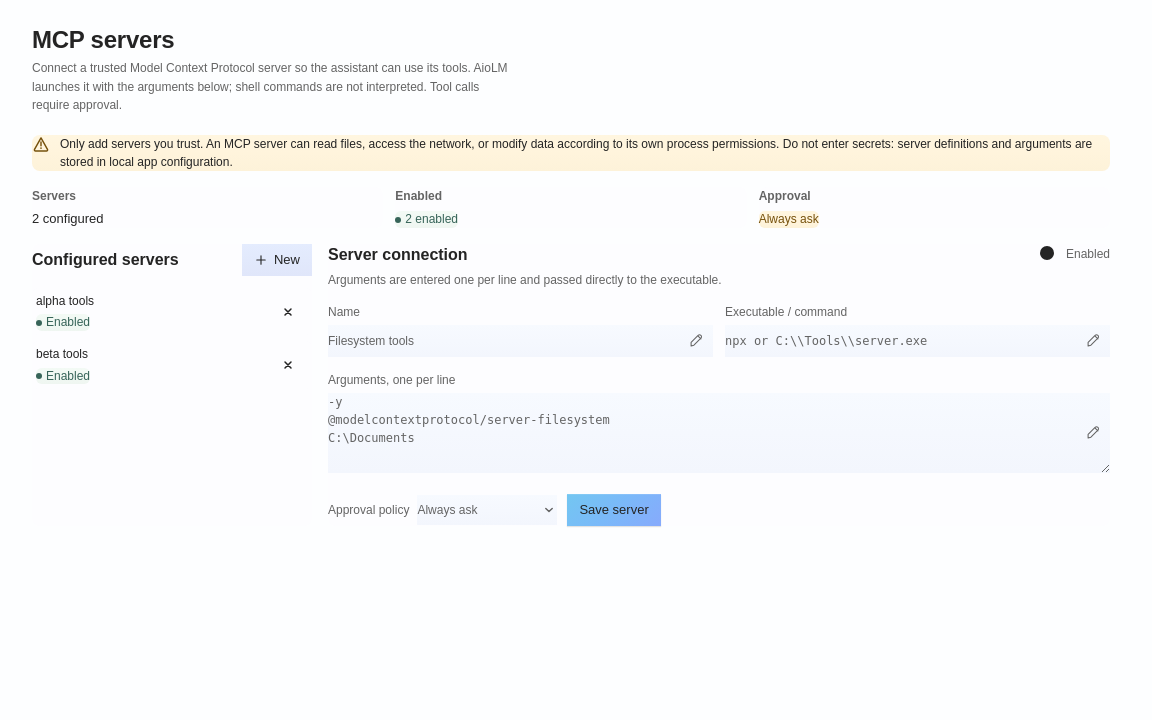
Test: MCP discovery selection ownership › does not replace current metadata or feedback with a previous server failure
Expected: the text "alpha tools" is shown, x1=36 y1=292 x2=94 y2=310
Click the button "alpha tools Enabled" at point(152, 312), box x1=36 y1=292 x2=268 y2=332
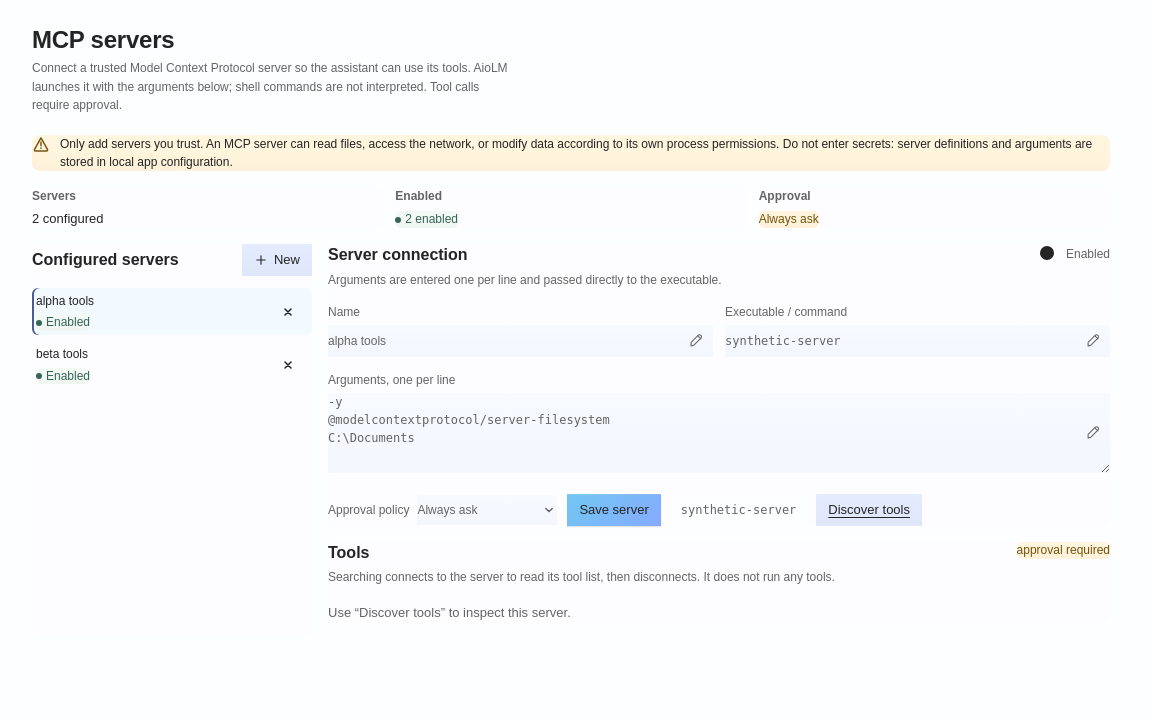
Click the button named "Discover tools" at point(869, 510), box x1=816 y1=494 x2=922 y2=526
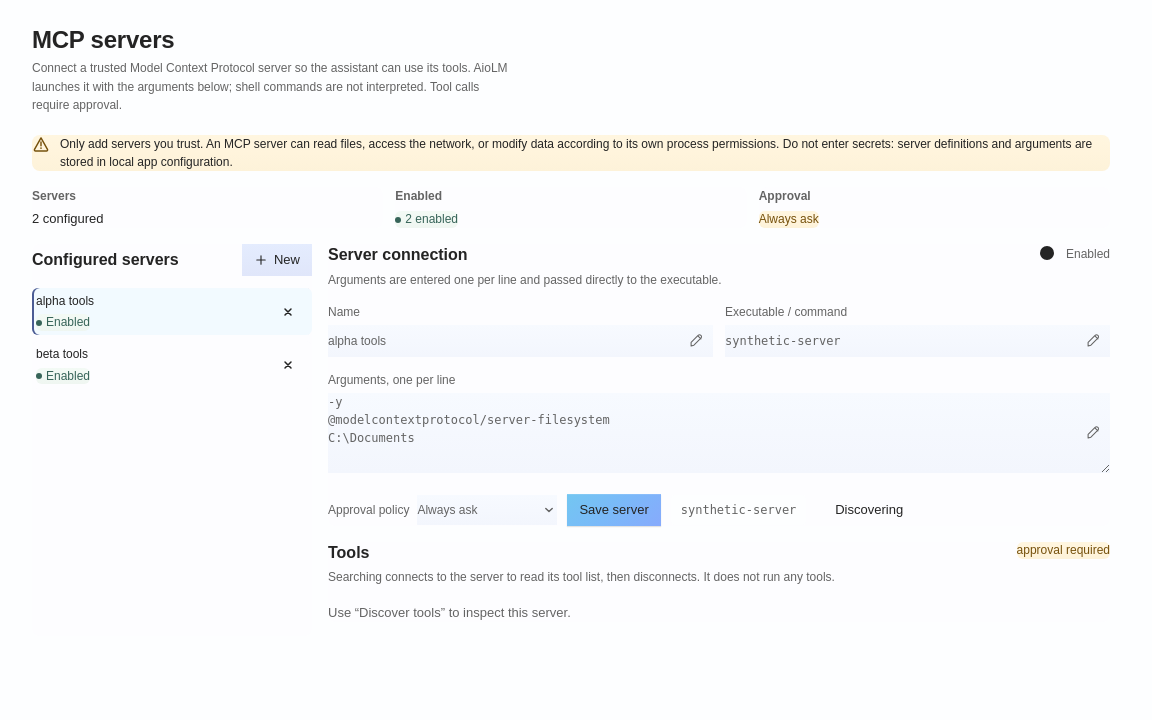
Click the button "beta tools Enabled" at point(152, 365), box x1=36 y1=346 x2=268 y2=385
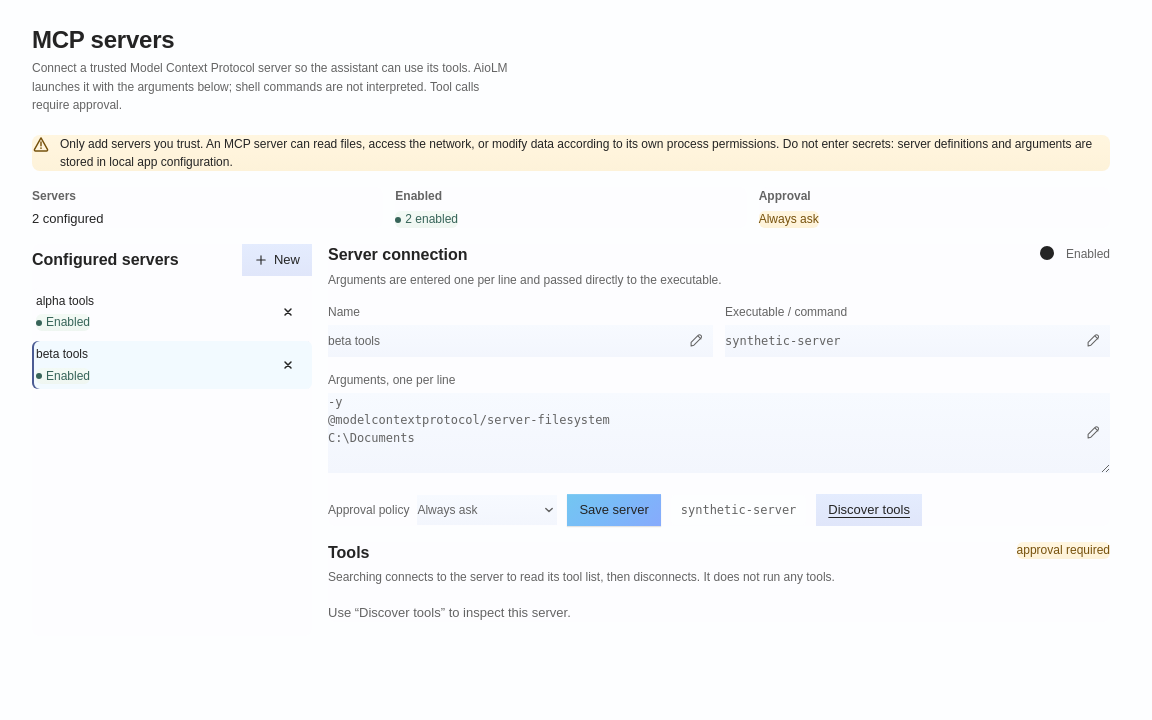
Click the button named "Discover tools" at point(869, 510), box x1=816 y1=494 x2=922 y2=526
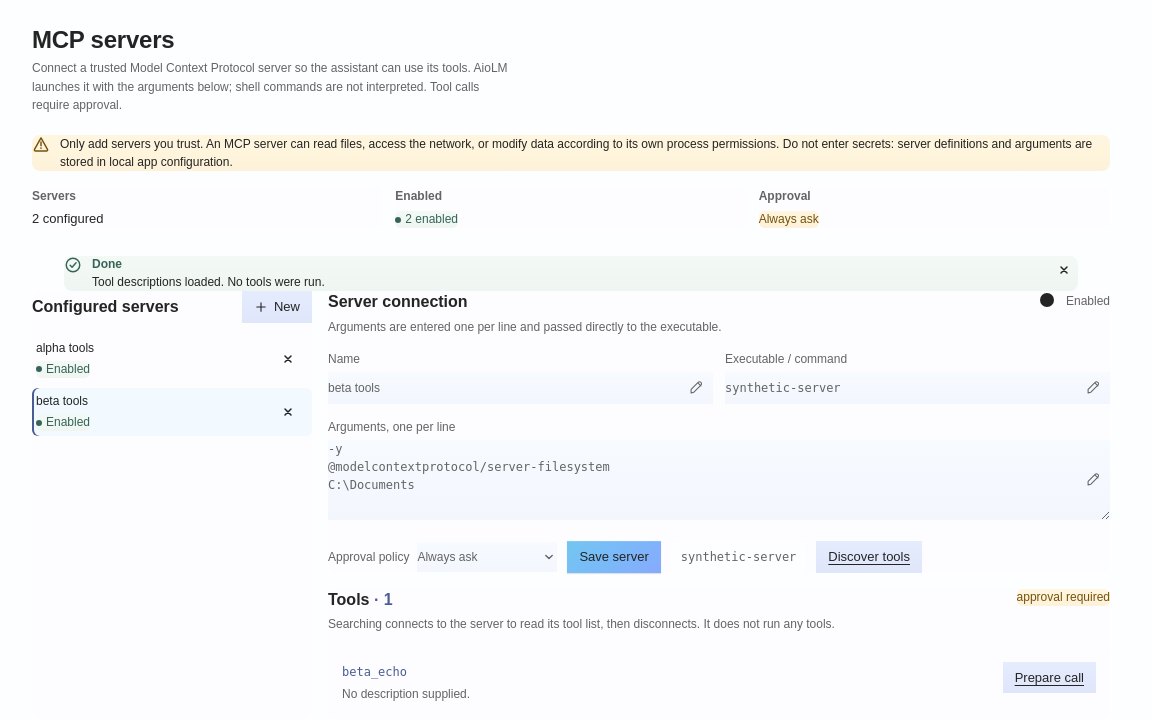
Result: the button with aria-label "Prepare call: beta_echo" is enabled at x1=1003 y1=662 x2=1096 y2=693
Result: the text "Tool descriptions loaded. No tools were run." is shown at x1=92 y1=275 x2=325 y2=289
